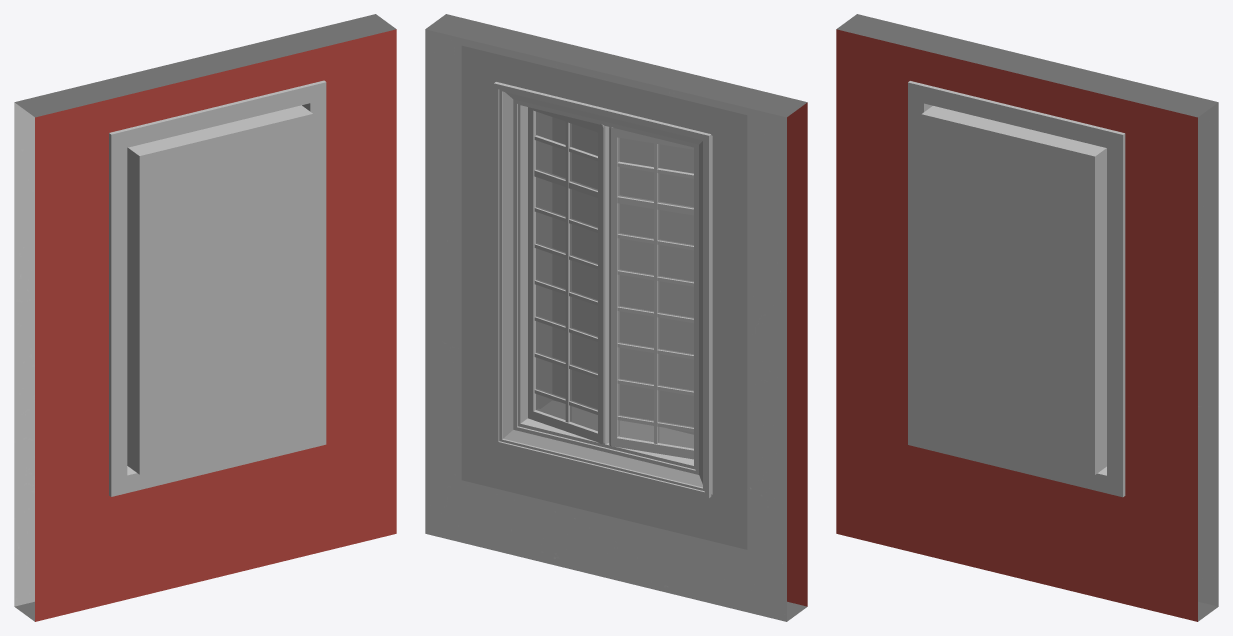
Rendered from SM_BuildingFacade_Window_400x250uu_Big.fbx.
3 views of the same model, side by side, from view 1: azimuth 30°, elevation 25°; view 2: azimuth 150°, elevation 25°; view 3: azimuth 330°, elevation 25° (orthographic).
Parts seen in each view (by area): view 1: SM_BuildingFacade_Window_400x250uu_Big; view 2: SM_BuildingFacade_Window_400x250uu_Big; view 3: SM_BuildingFacade_Window_400x250uu_Big.
Boxes of the visible parts, left/top/right/bottom form: SM_BuildingFacade_Window_400x250uu_Big: left=14, top=14, right=396, bottom=621; SM_BuildingFacade_Window_400x250uu_Big: left=425, top=14, right=807, bottom=621; SM_BuildingFacade_Window_400x250uu_Big: left=836, top=14, right=1218, bottom=621.
Bounding box in the file's own units: 300 × 400 × 54.65.
